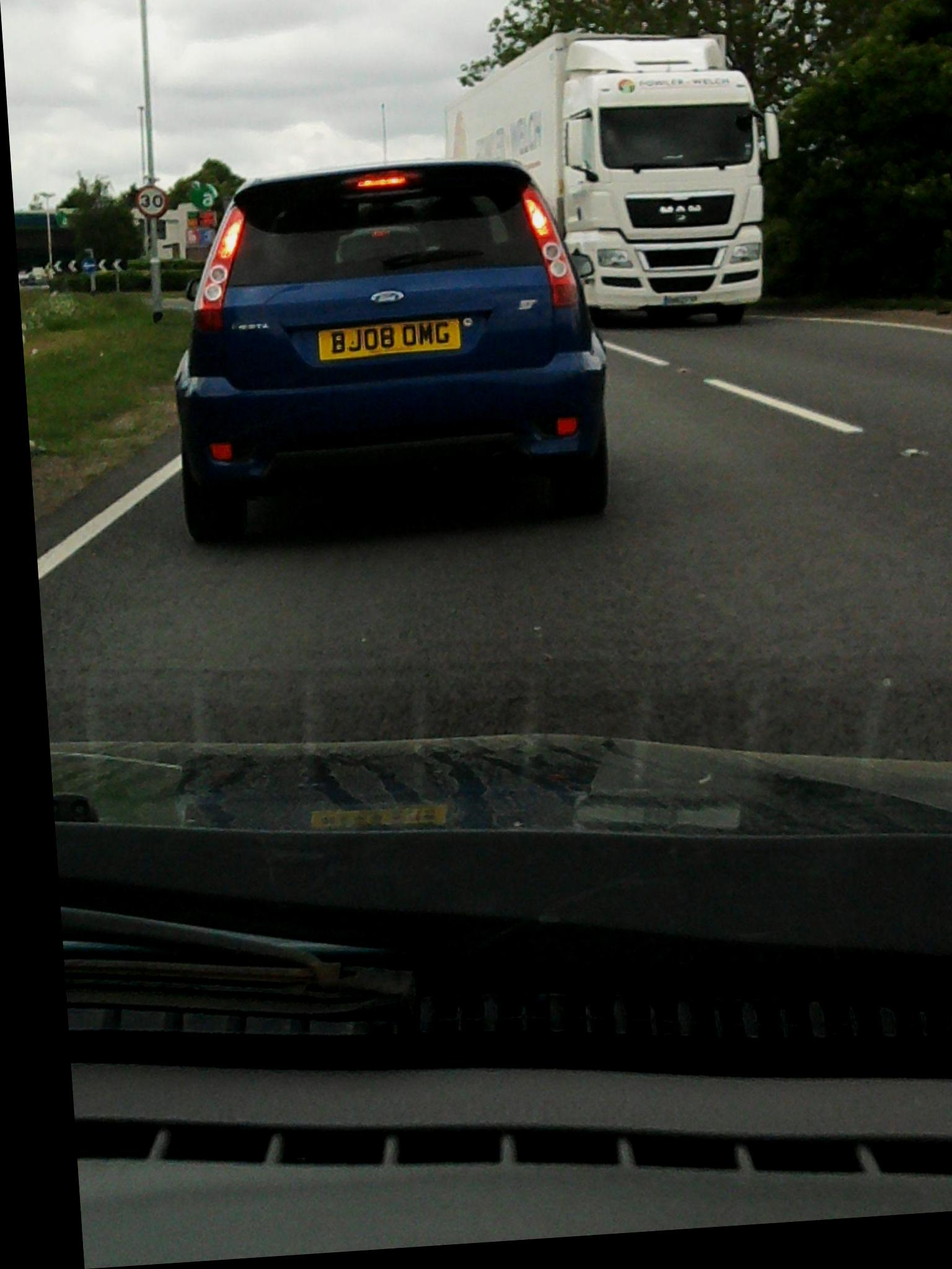License_Plate: (306, 314, 470, 367), (659, 286, 702, 310)
